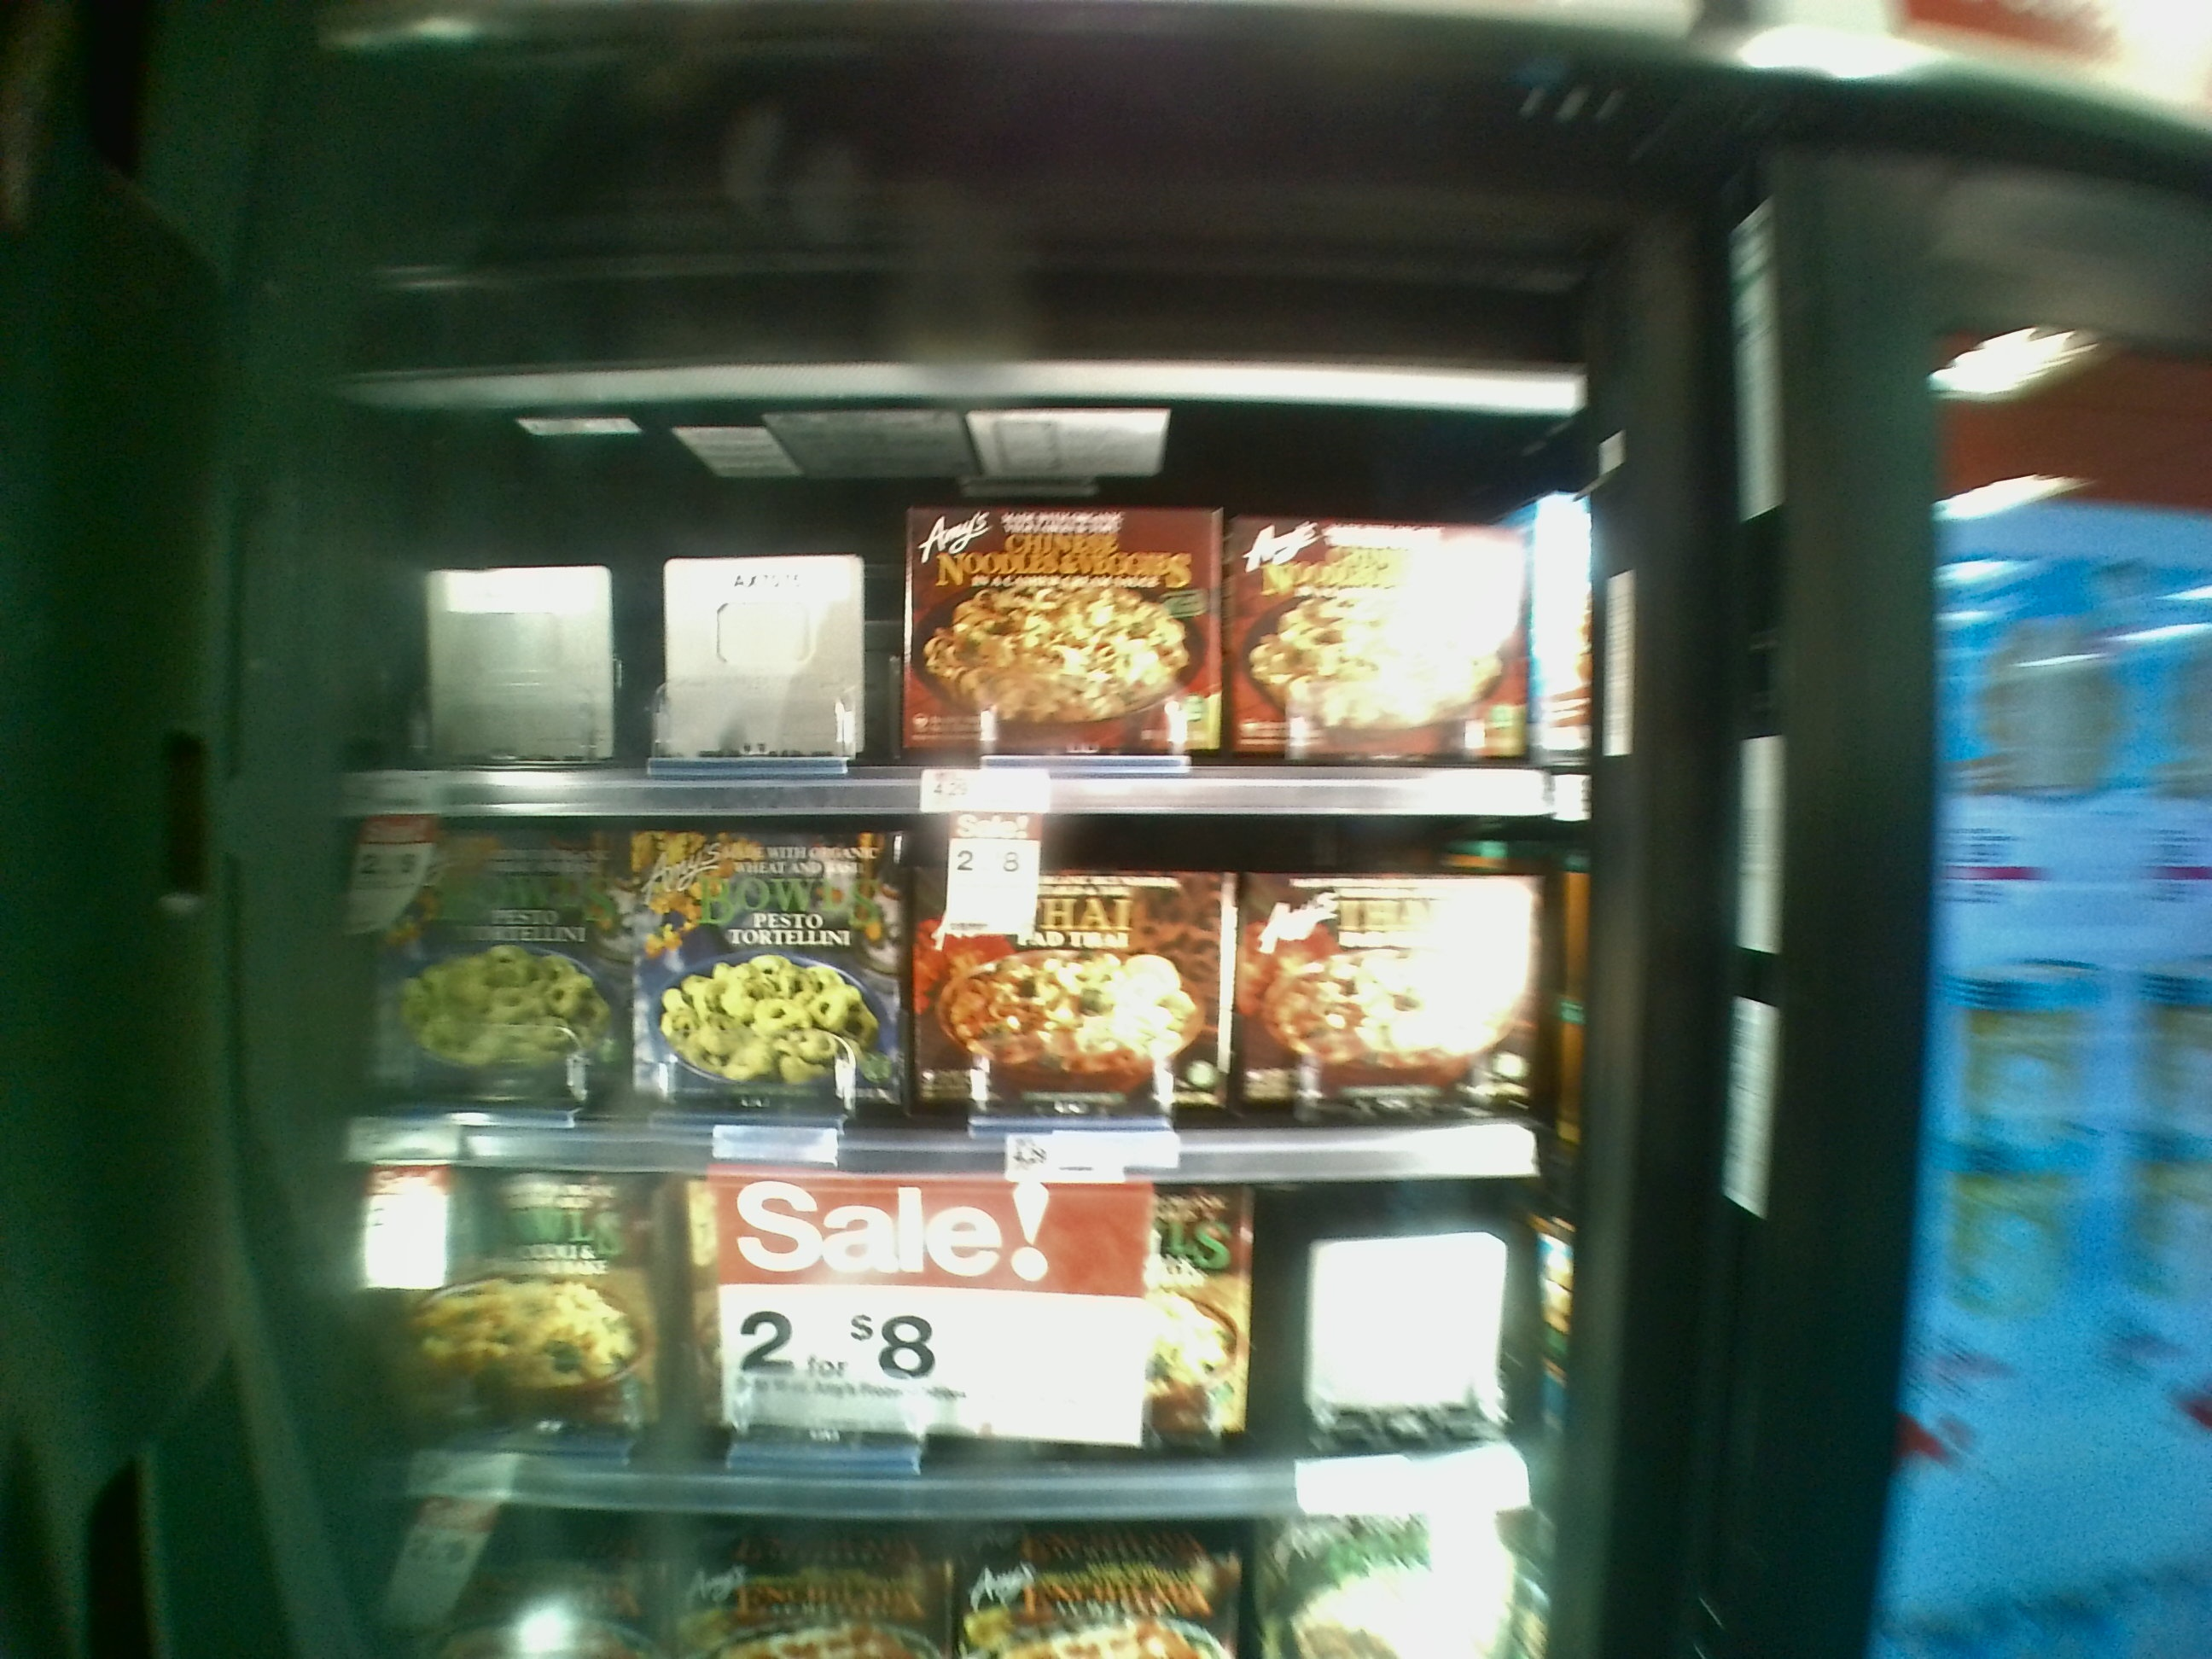shelf: (329, 394, 1573, 823), (347, 821, 1566, 1187), (374, 1169, 1554, 1525)
